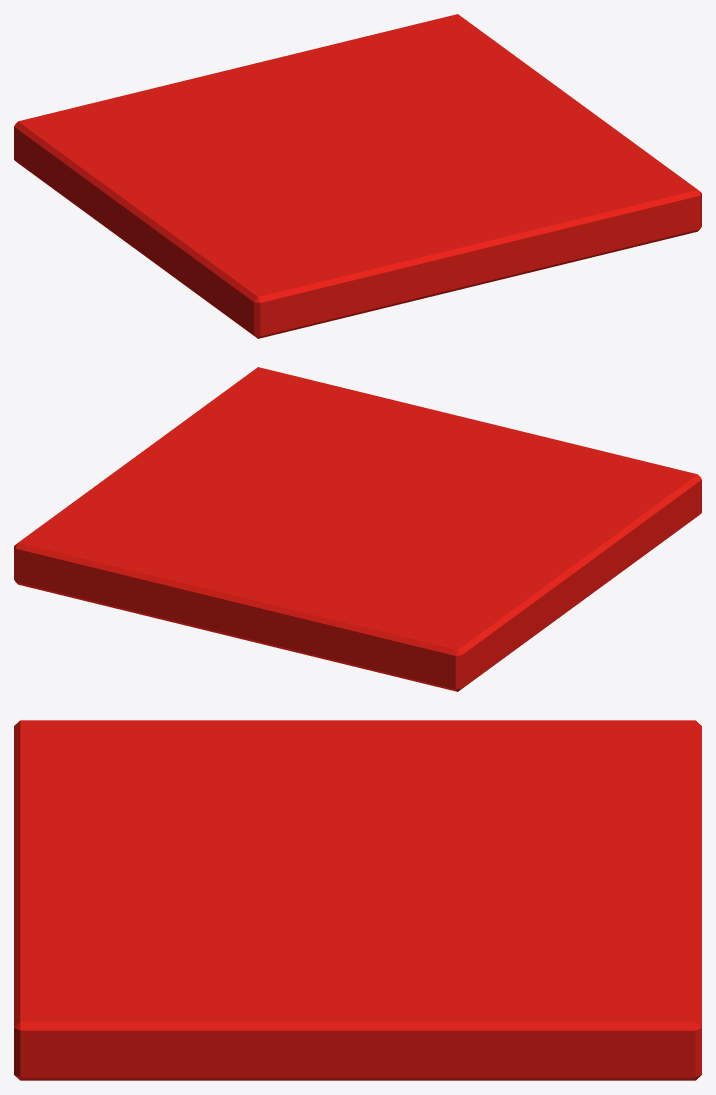
File: ground.fbx
3 renders of one model, top to bottom at view 1: azimuth 30°, elevation 25°; view 2: azimuth 150°, elevation 25°; view 3: azimuth 270°, elevation 25°, orthographic. The views are drawn at different scales.
Visible parts, largest first — view 1: ground; view 2: ground; view 3: ground.
Boxes of the visible parts, box(x1,y1,x2,y2) form: ground: box(14, 14, 701, 338); ground: box(14, 367, 701, 691); ground: box(14, 720, 701, 1080).
Size of the model in its own units: 112 by 10 by 106.
